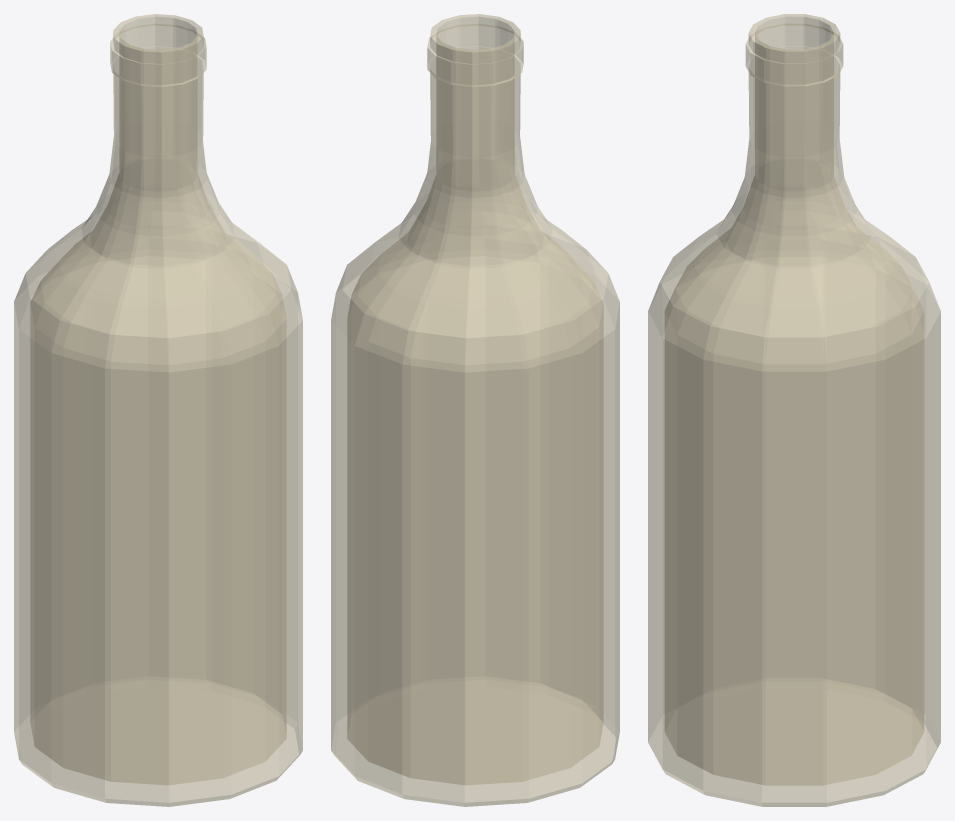
Rendered from Bottle_B.fbx.
3 views of the same model, side by side, from view 1: azimuth 30°, elevation 25°; view 2: azimuth 150°, elevation 25°; view 3: azimuth 270°, elevation 25° (orthographic).
Visible parts, largest first — view 1: Bottle_B; view 2: Bottle_B; view 3: Bottle_B.
Boxes of the visible parts, x1=… form: Bottle_B: x1=14, y1=14, x2=302, y2=806; Bottle_B: x1=331, y1=14, x2=619, y2=806; Bottle_B: x1=648, y1=14, x2=940, y2=806.
Size of the model in its own units: 441 by 1219 by 452.
